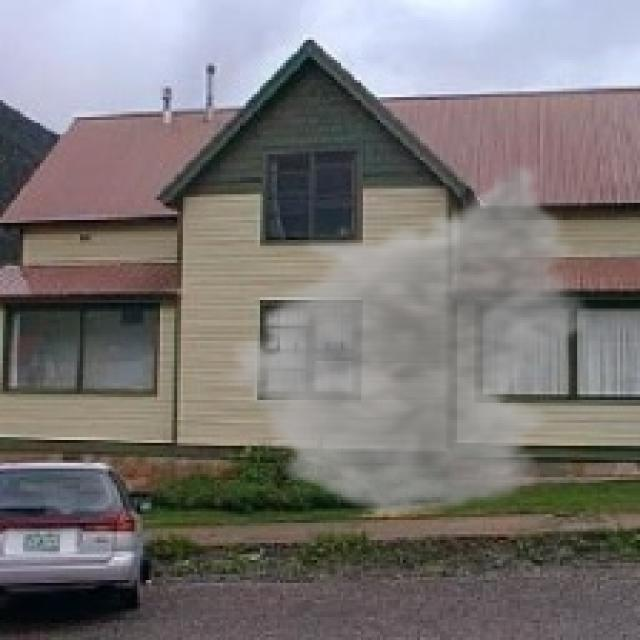smoke: (217, 160, 600, 520)
